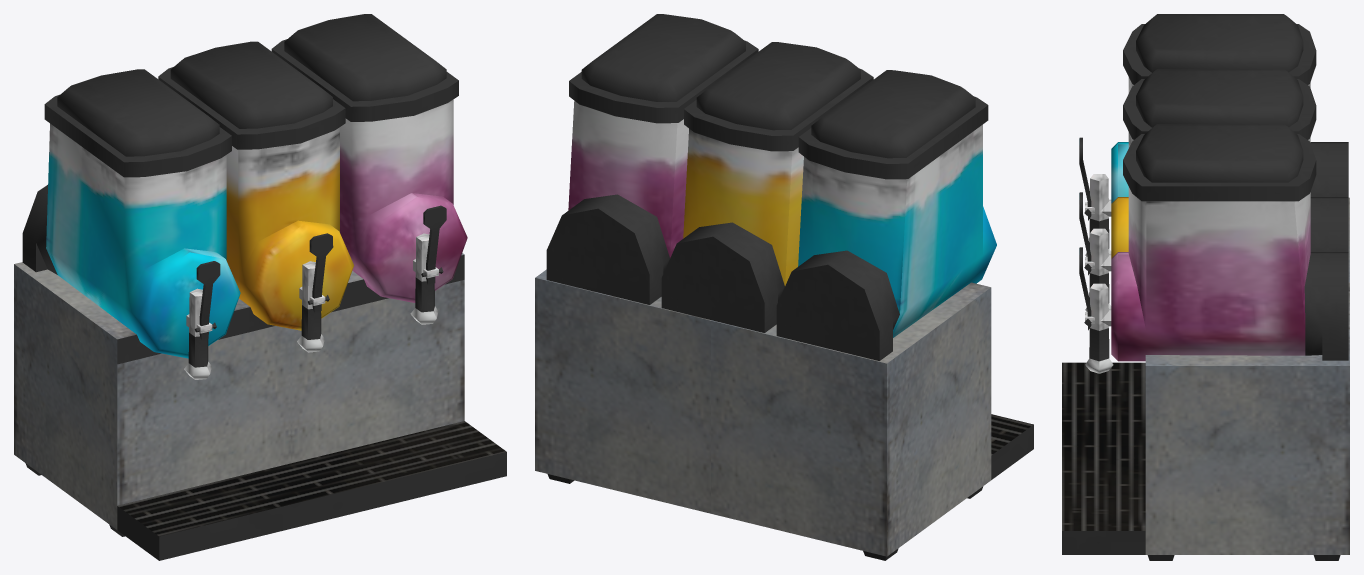
The model's file is Smoothie_Machine.dae.
3 views of the same model, side by side, from view 1: azimuth 30°, elevation 25°; view 2: azimuth 150°, elevation 25°; view 3: azimuth 270°, elevation 25° (orthographic). The views are drawn at different scales.
Parts seen in each view (by area): view 1: Smoothie_Machine; view 2: Smoothie_Machine; view 3: Smoothie_Machine.
Boxes of the visible parts, left/top/right/bottom form: Smoothie_Machine: left=14, top=14, right=506, bottom=560; Smoothie_Machine: left=535, top=14, right=1033, bottom=560; Smoothie_Machine: left=1062, top=14, right=1349, bottom=560.
Size of the model in its own units: 0.9276 by 0.6708 by 1.01.
Materials: 1 (1 with a texture image).
